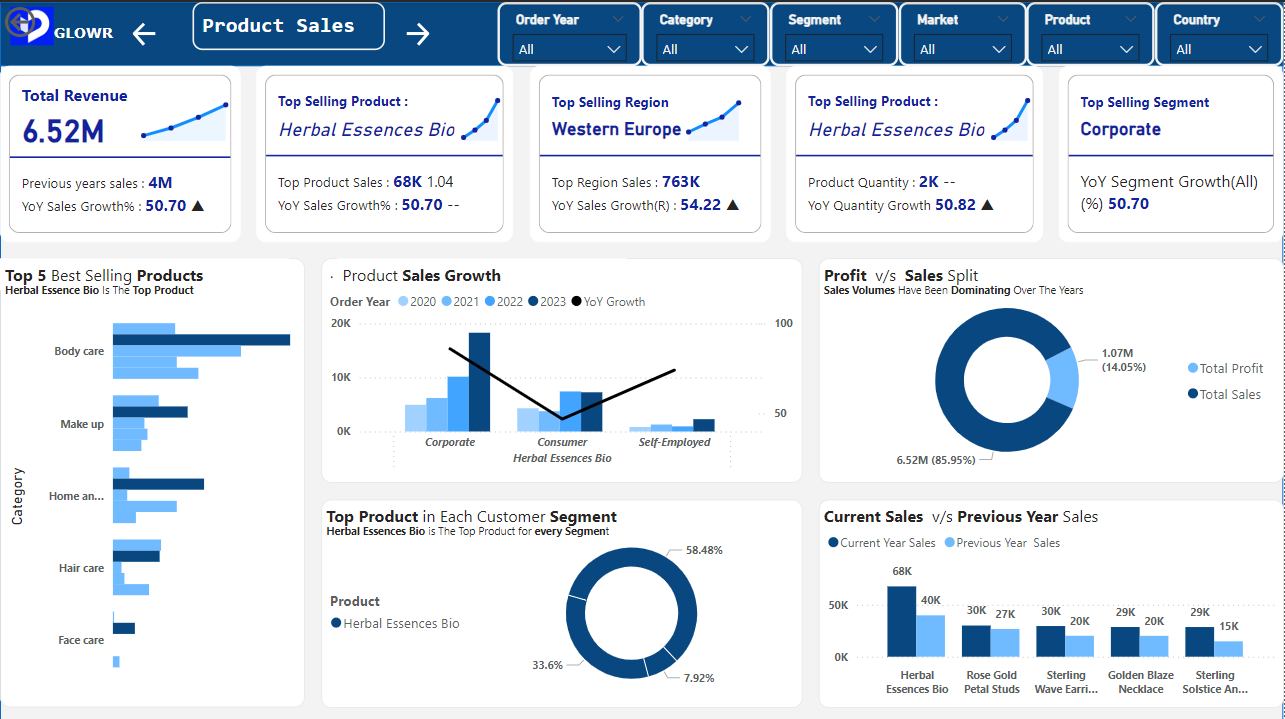

The dashboard page shown, as its layout file describes it:
{"tool":"powerbi","page":{"name":"Top Selling Products Analysis Report","canvas":[1280,720],"ordinal":1},"visuals":[{"type":"shape","box":[0,0,1280,720],"z":0},{"type":"shape","box":[0,0,1280,64],"z":1000},{"type":"image","box":[0,0,64,48],"z":2000},{"type":"textbox","box":[48,16,80,32],"z":3000},{"type":"slicer","fields":{"Values":["Category.Category"]},"box":[640,0,128,64],"z":4000},{"type":"slicer","fields":{"Values":["Market.Market"]},"box":[896,0,128,64],"z":5000},{"type":"slicer","fields":{"Values":["Segment.Segment"]},"box":[768,0,128,64],"z":6000},{"type":"slicer","fields":{"Values":["Products.Product"]},"box":[1024,0,128,64],"z":7000},{"type":"slicer","fields":{"Values":["Country.Country"]},"box":[1152,0,128,64],"z":8000},{"type":"slicer","fields":{"Values":["Date.Order Year"]},"box":[496,0,144,64],"z":9000},{"type":"textbox","box":[192,0,192,48],"z":10000},{"type":"cardVisual","fields":{"Data":["Fact Table.total sales"]},"box":[0,64,240,176],"z":11000},{"type":"lineChart","fields":{"Category":["Date.Order Year"],"Y":["Sum(Fact Table.Sales)"]},"box":[128,80,112,64],"z":12000},{"type":"cardVisual","fields":{"Data":["Category.Top Selling Region sales   :"]},"box":[528,64,240,176],"z":13000},{"type":"cardVisual","fields":{"Data":["Category.Top Selling Product"]},"box":[256,64,256,176],"z":14000},{"type":"lineChart","fields":{"Category":["Date.Order Year"],"Y":["Category.Top Product Sales :"]},"box":[448,80,64,64],"z":15000},{"type":"lineChart","fields":{"Category":["Date.Order Year"],"Y":["Category.Top Region  Sales :"]},"box":[672,80,80,64],"z":16000},{"type":"cardVisual","fields":{"Data":["Category.Top Selling Product"]},"box":[784,64,256,176],"z":17000},{"type":"lineChart","fields":{"Category":["Date.Order Year"],"Y":["Category.Top Product Sales :"]},"box":[976,80,64,64],"z":18000},{"type":"cardVisual","fields":{"Data":["Category.Top Selling Segment"]},"box":[1056,64,224,176],"z":19000},{"type":"clusteredBarChart","title":".","fields":{"Category":["Category.Category","Sub Category.Subcategory"],"Y":["Fact Table.total sales"],"Series":["Products.Product"]},"box":[0,256,304,448],"z":20000},{"type":"lineClusteredColumnComboChart","title":".","fields":{"Category":["Products.Product","Segment.Segment"],"Series":["Date.Order Year"],"Y":["Fact Table.total sales"],"Y2":["Category.YoY Growth"]},"box":[320,256,480,224],"z":21000},{"type":"donutChart","title":" ","fields":{"Y":["Category.Total Profit","Fact Table.total sales"]},"box":[816,256,464,224],"z":22000},{"type":"actionButton","box":[0,0,100,40],"z":23000},{"type":"donutChart","title":" ","fields":{"Category":["Products.Product"],"Y":["Fact Table.total sales"],"Series":["Segment.Segment"]},"box":[320,496,480,208],"z":24000},{"type":"lineClusteredColumnComboChart","title":" ","fields":{"Category":["Products.Product"],"Y":["Fact Table.total sales","Category.previous year (p) sales"]},"box":[816,496,464,208],"z":25000},{"type":"textbox","box":[0,256,288,32],"z":26000},{"type":"textbox","box":[0,272,288,32],"z":27000},{"type":"textbox","box":[336,256,288,32],"z":28000},{"type":"textbox","box":[320,496,320,32],"z":29000},{"type":"textbox","box":[320,512,368,32],"z":30000},{"type":"textbox","box":[816,256,320,32],"z":31000},{"type":"textbox","box":[816,272,352,32],"z":32000},{"type":"textbox","box":[816,496,320,32],"z":33000},{"type":"actionButton","box":[400,16,48,32],"z":34000},{"type":"actionButton","box":[128,16,48,32],"z":35000}]}

Visuals, with their boxes in screenshot pixels (x1, y1, x2, y2), scaled from the page's 1280x720 canvas onto the 1285x719 screenshot:
shape: (0,0,1284,718)
shape: (0,0,1284,64)
image: (0,0,64,48)
textbox: (48,16,128,48)
slicer - Category.Category: (642,0,771,64)
slicer - Market.Market: (900,0,1028,64)
slicer - Segment.Segment: (771,0,900,64)
slicer - Products.Product: (1028,0,1156,64)
slicer - Country.Country: (1156,0,1284,64)
slicer - Date.Order Year: (498,0,642,64)
textbox: (193,0,386,48)
cardVisual - Fact Table.total sales: (0,64,241,240)
lineChart - Date.Order Year x Sum(Fact Table.Sales): (128,80,241,144)
cardVisual - Category.Top Selling Region sales   :: (530,64,771,240)
cardVisual - Category.Top Selling Product: (257,64,514,240)
lineChart - Date.Order Year x Category.Top Product Sales :: (450,80,514,144)
lineChart - Date.Order Year x Category.Top Region  Sales :: (675,80,755,144)
cardVisual - Category.Top Selling Product: (787,64,1044,240)
lineChart - Date.Order Year x Category.Top Product Sales :: (980,80,1044,144)
cardVisual - Category.Top Selling Segment: (1060,64,1284,240)
"." clusteredBarChart: (0,256,305,703)
"." lineClusteredColumnComboChart: (321,256,803,479)
" " donutChart: (819,256,1284,479)
actionButton: (0,0,100,40)
" " donutChart: (321,495,803,703)
" " lineClusteredColumnComboChart: (819,495,1284,703)
textbox: (0,256,289,288)
textbox: (0,272,289,304)
textbox: (337,256,626,288)
textbox: (321,495,642,527)
textbox: (321,511,691,543)
textbox: (819,256,1140,288)
textbox: (819,272,1173,304)
textbox: (819,495,1140,527)
actionButton: (402,16,450,48)
actionButton: (128,16,177,48)
